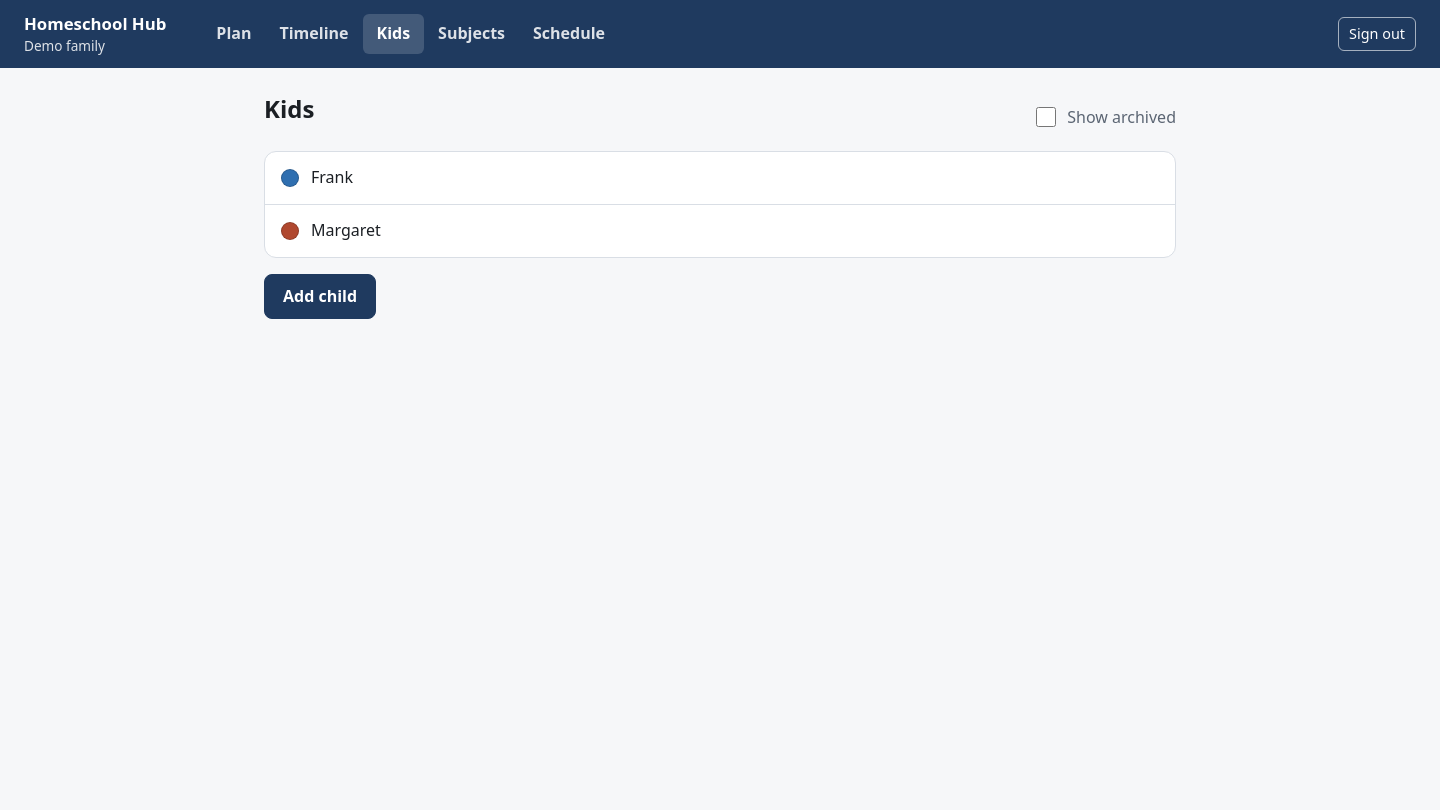
Test: Edit child › with 'Show archived' on, archiving keeps the row and tags it; unarchive clears the tag
Expected: the list named "Kids" is shown, top-left (264, 151), bottom-right (1176, 258)
Click the checkbox labelled "Show archived": (1046, 117) top-left (1036, 107), bottom-right (1056, 127)
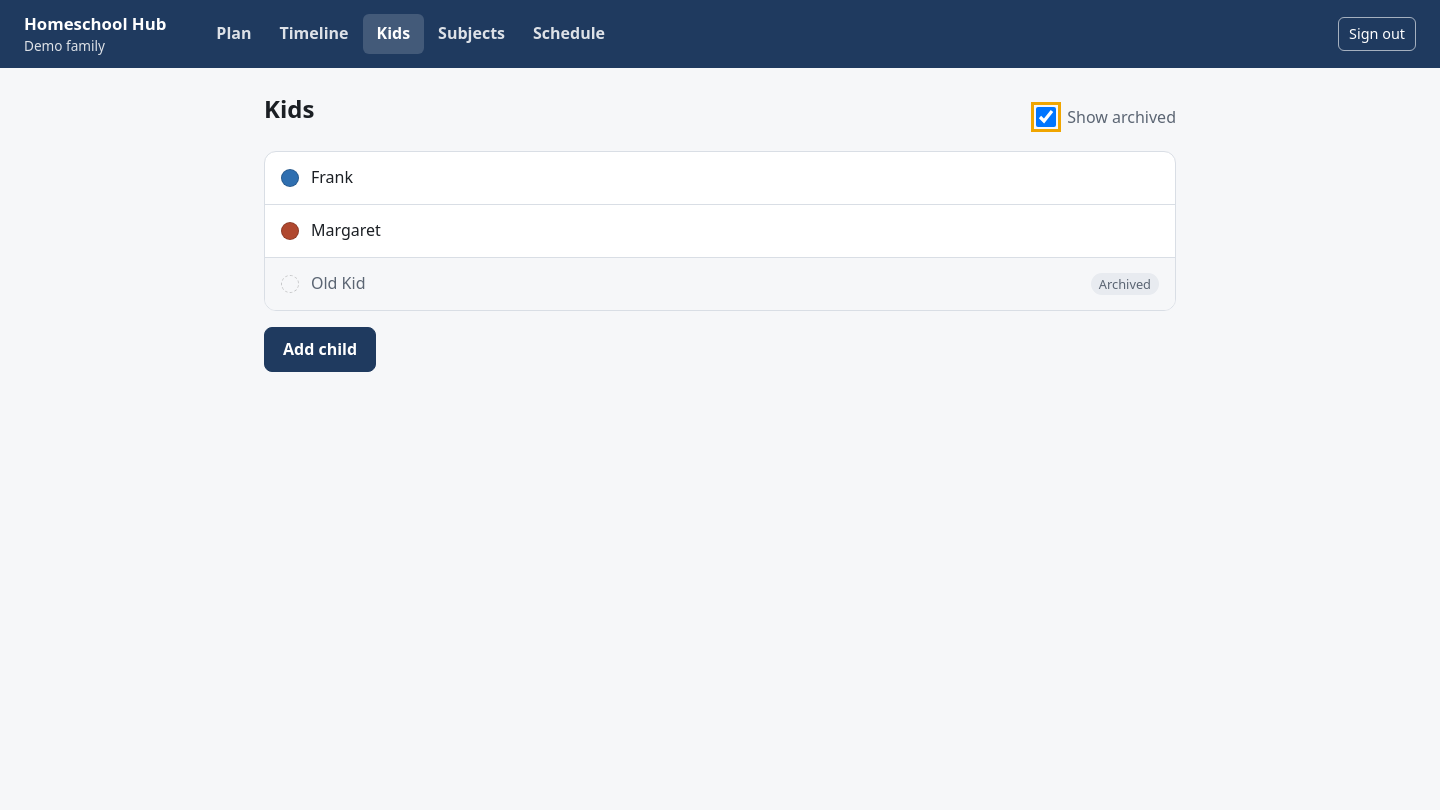
Now the text "Old Kid" is shown, box top-left (311, 272), bottom-right (366, 294)
Click the button "Frank": (332, 177) top-left (265, 152), bottom-right (1175, 204)
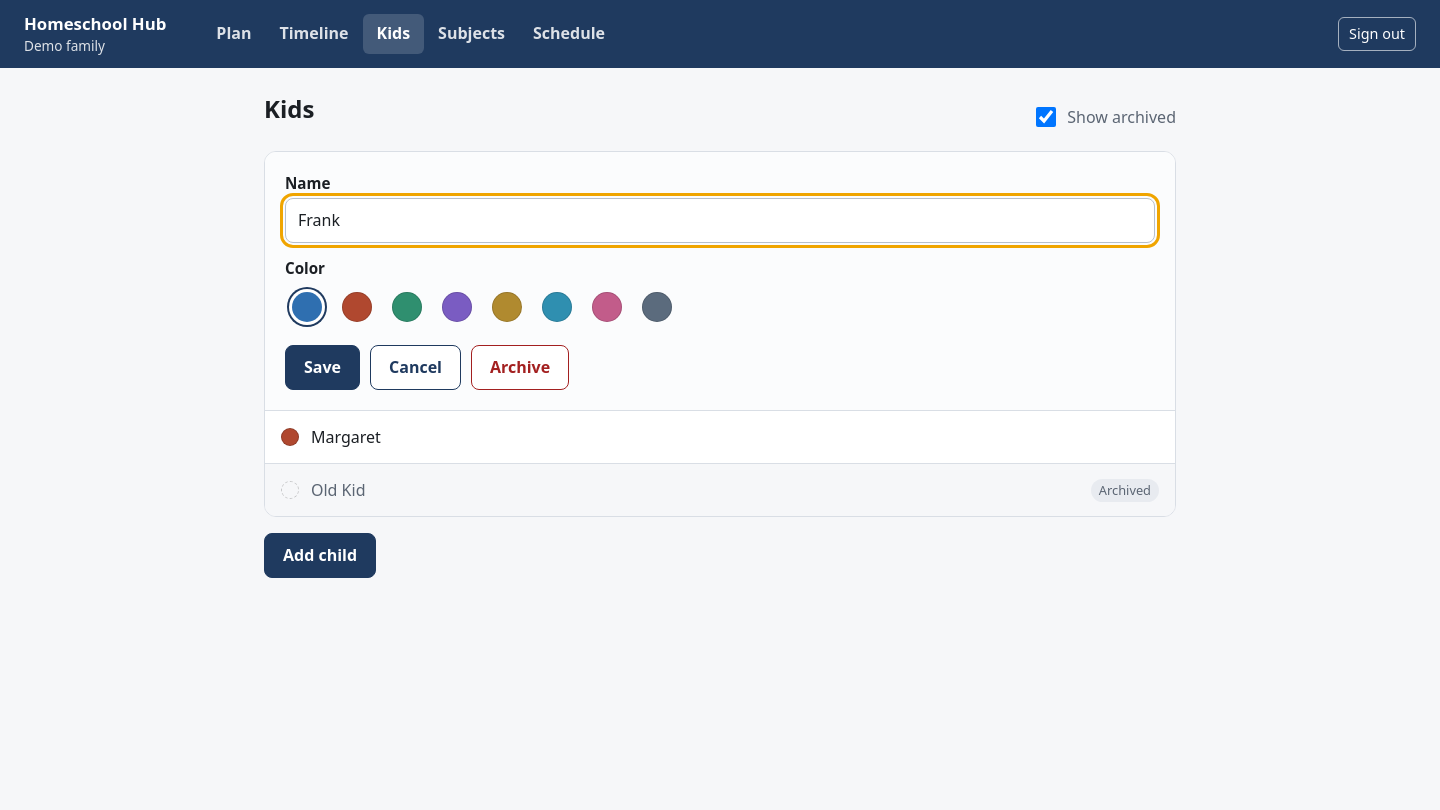
Click the button "Archive": (520, 368) top-left (471, 345), bottom-right (569, 390)
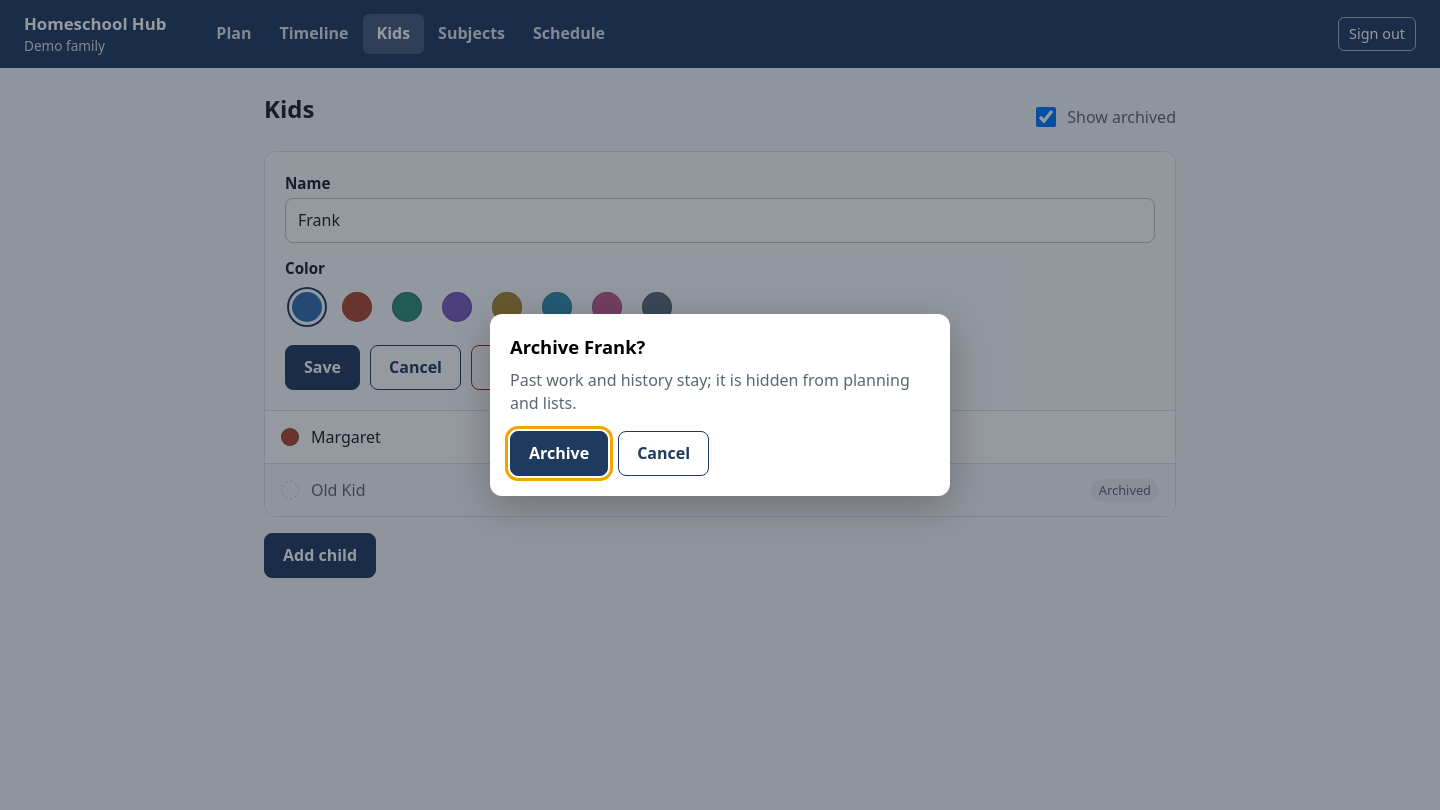
Click the button "Archive": (559, 454) top-left (510, 431), bottom-right (608, 476)
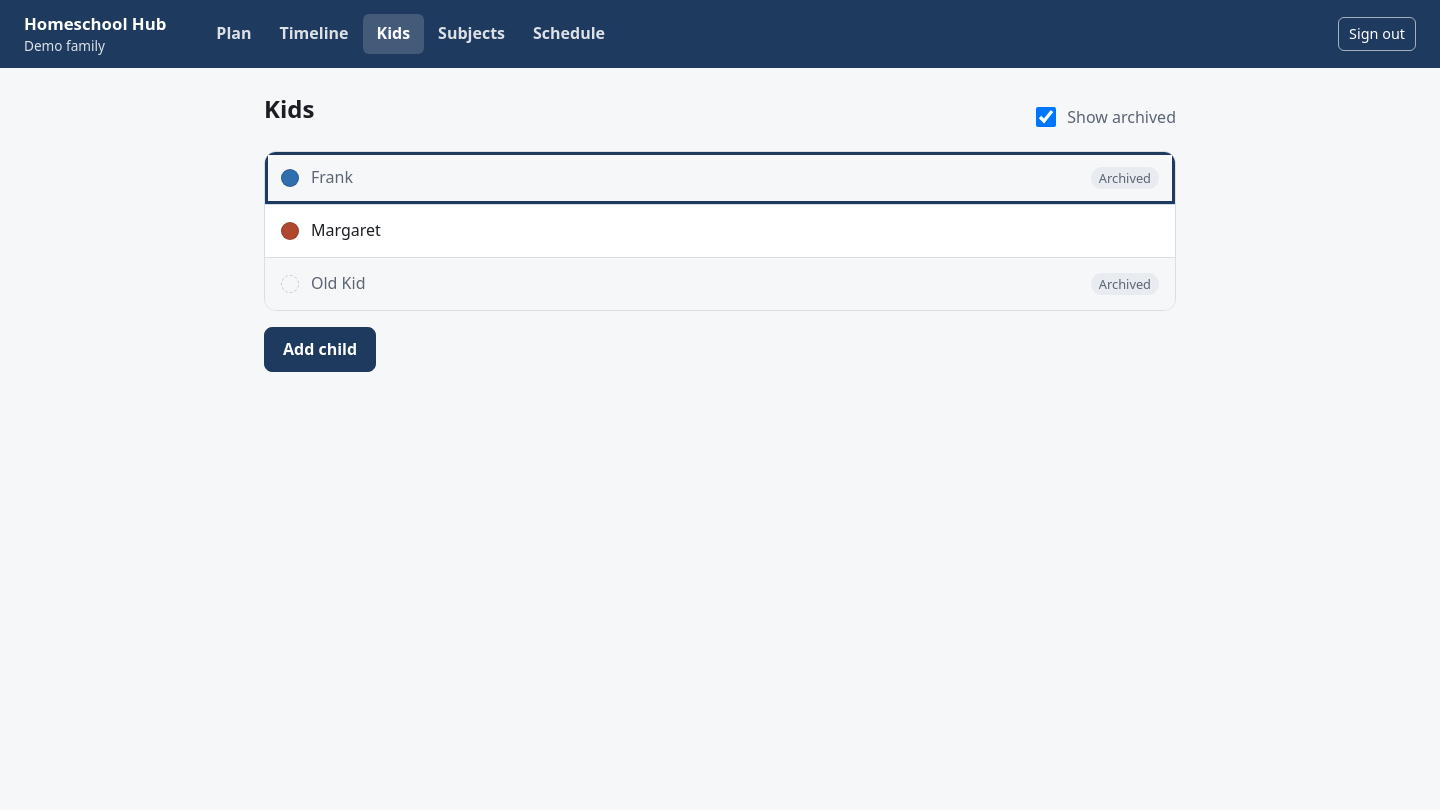
Now the button "Frank Archived" is shown, box top-left (265, 152), bottom-right (1175, 204)
Click the button "Old Kid Archived": (338, 283) top-left (265, 258), bottom-right (1175, 310)
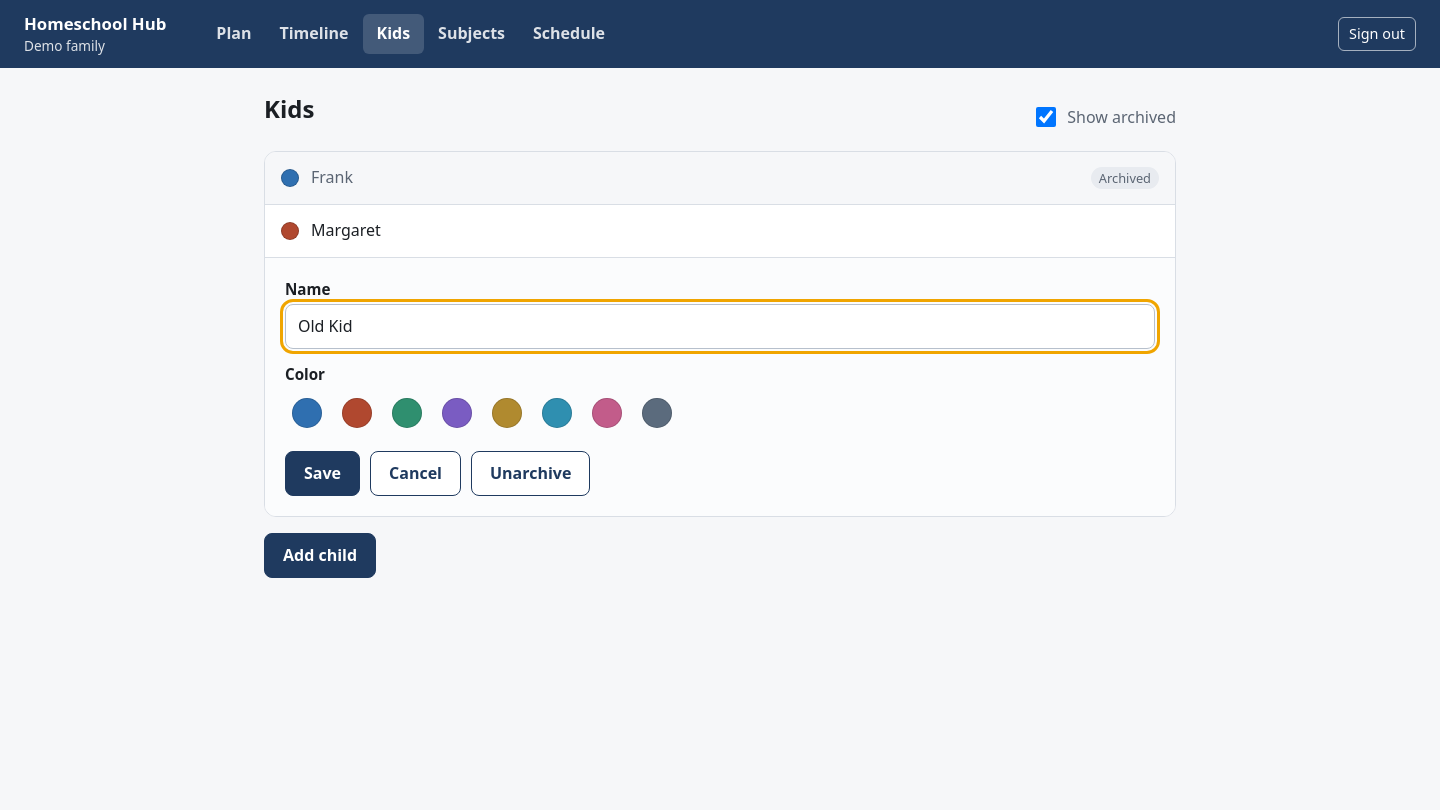
Click the button "Unarchive": (531, 474) top-left (471, 451), bottom-right (590, 496)
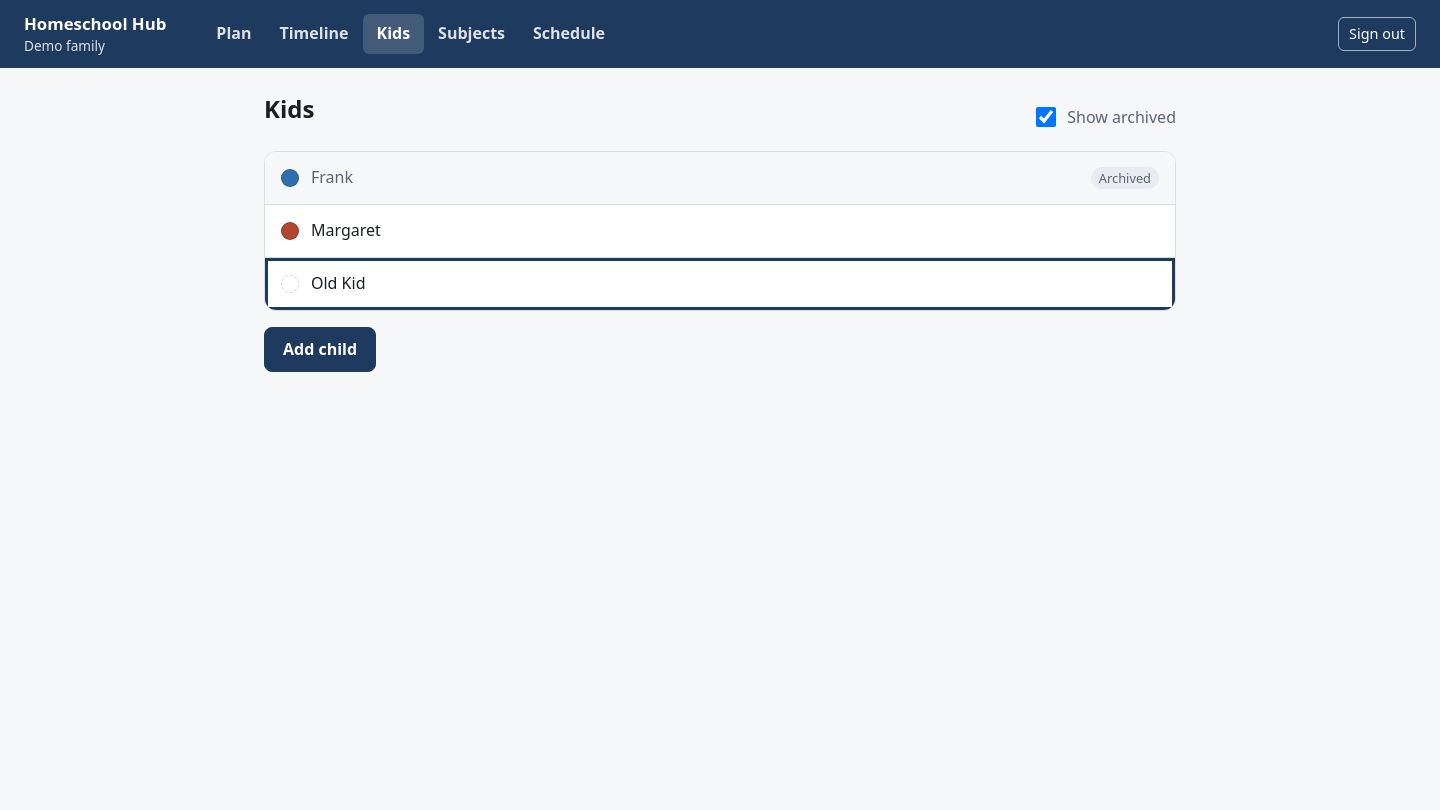
Now the button "Old Kid" is shown, box top-left (265, 258), bottom-right (1175, 310)
